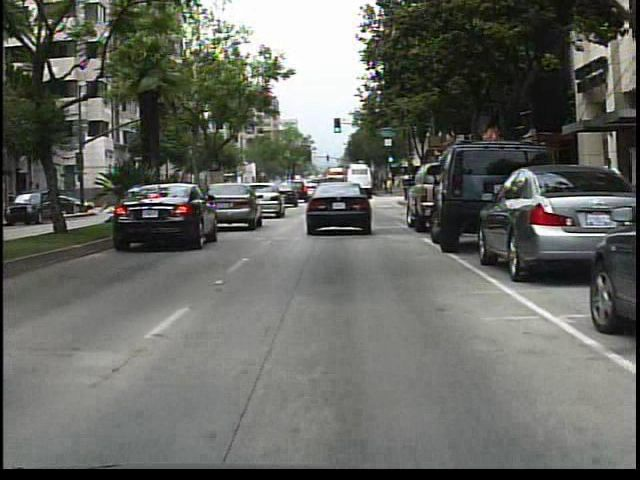person: (596, 153, 624, 225)
